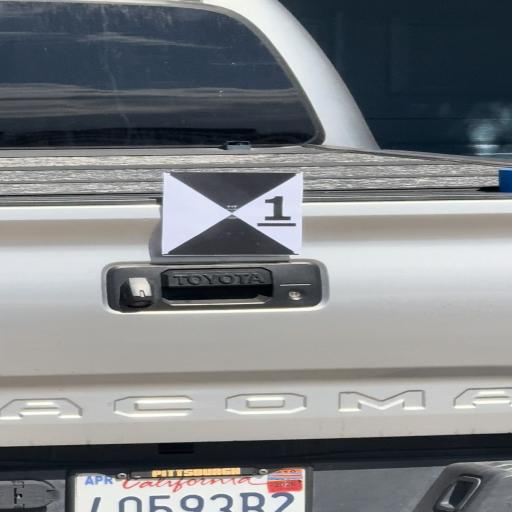target1: (165, 172, 299, 254)
